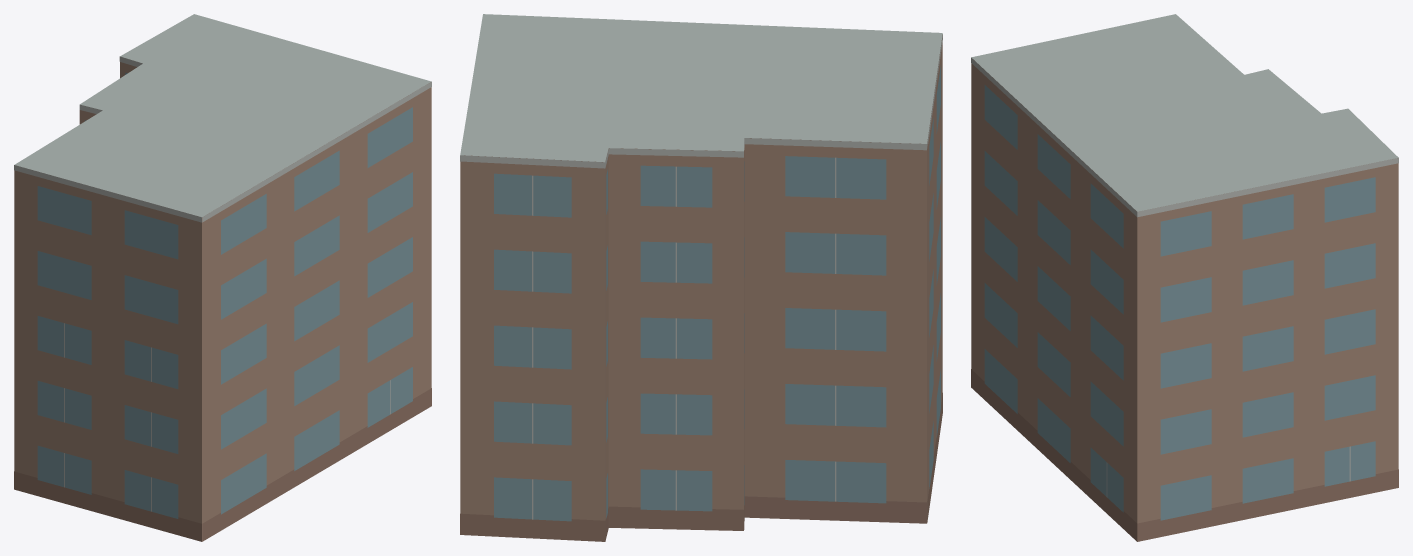
The model's file is survey-upis-32943276.glb.
3 views of the same model, side by side, from view 1: azimuth 30°, elevation 25°; view 2: azimuth 150°, elevation 25°; view 3: azimuth 270°, elevation 25° (orthographic). The views are drawn at different scales.
Parts seen in each view (by area): view 1: survey-upis-32943276.tmp; view 2: survey-upis-32943276.tmp; view 3: survey-upis-32943276.tmp.
Part boxes in pixels (x1,y1,x2,y2): survey-upis-32943276.tmp: (14,14,431,541); survey-upis-32943276.tmp: (460,14,942,541); survey-upis-32943276.tmp: (971,14,1398,541).
Bounding box in the file's own units: 18.9 × 14.7 × 17.27.
